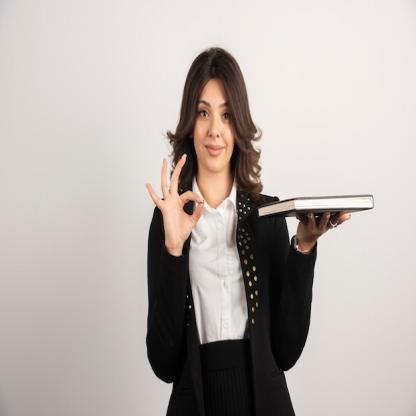ok: (144, 152, 206, 252)
